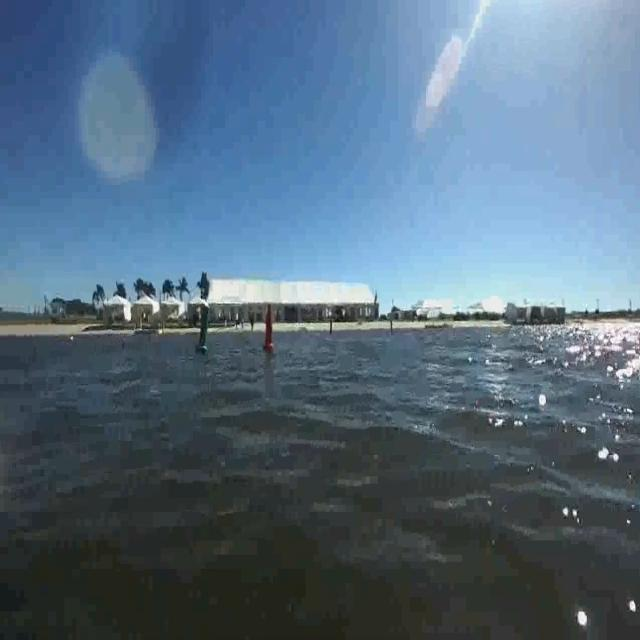green-column-buoy: (198, 308, 212, 354)
red-column-buoy: (264, 308, 278, 354)
